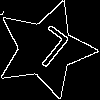L: (20, 24, 72, 77)
